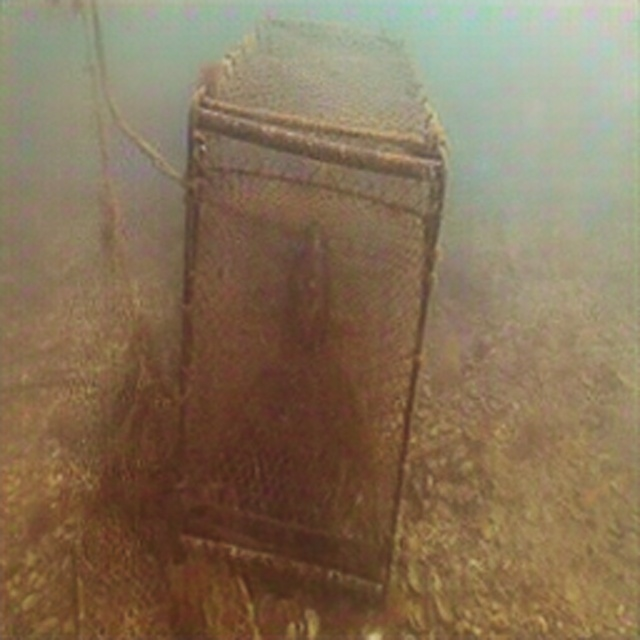mine: (174, 11, 449, 599)
